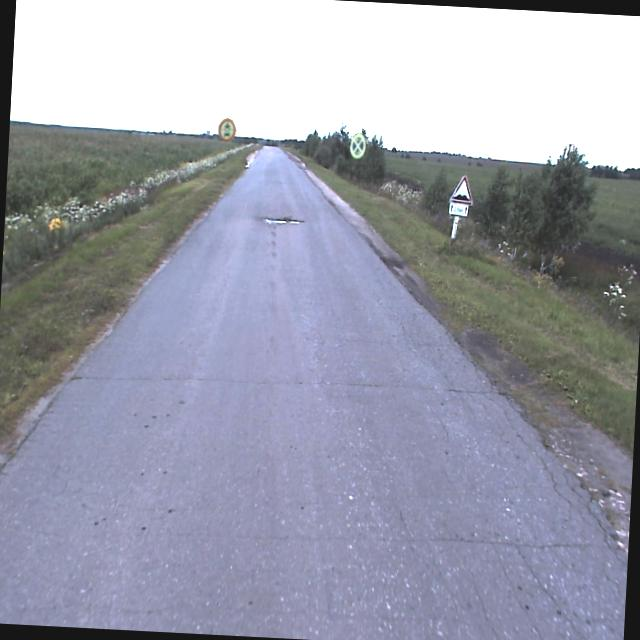road: (0, 144, 628, 640)
